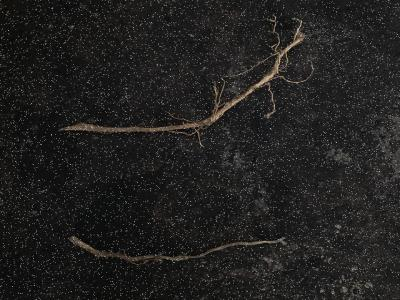Root: (60, 17, 313, 146), (69, 236, 283, 265)
